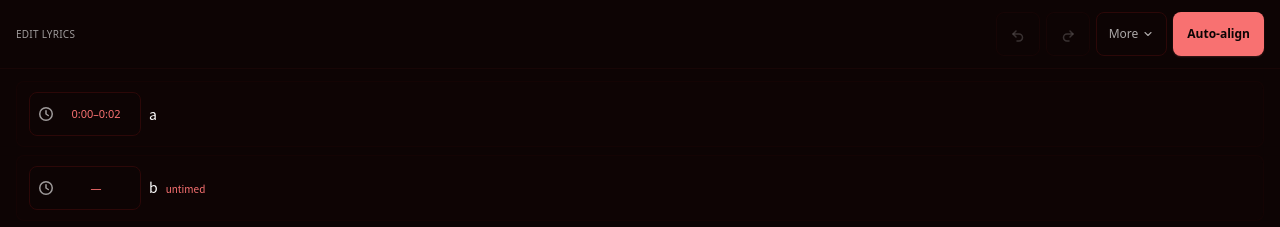
Test: EditMode — single-row toolbar hierarchy › lists only applicable actions in the More menu
Click the button "More" at (1131, 34), box top-left (1096, 12), bottom-right (1167, 56)
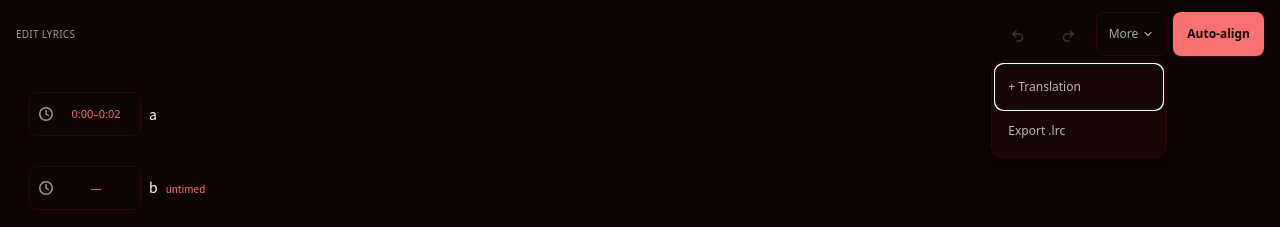
Expected: the button "+ Translation" is shown, top-left (996, 65), bottom-right (1162, 109)
